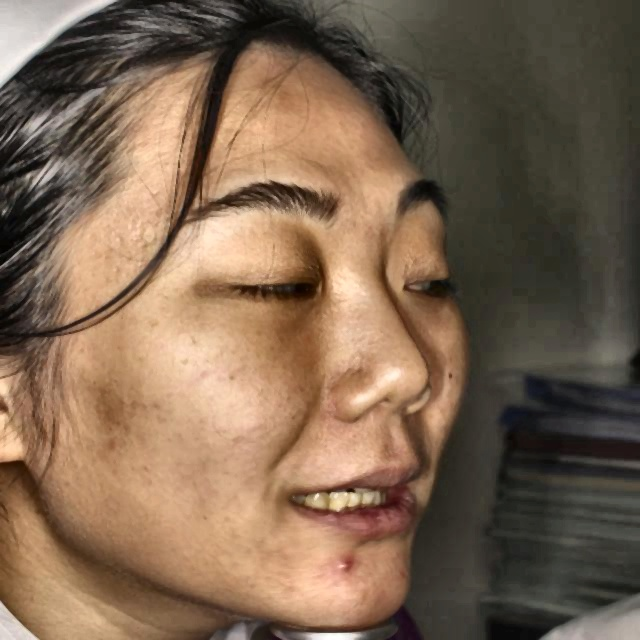pustule: (325, 549, 358, 580)
